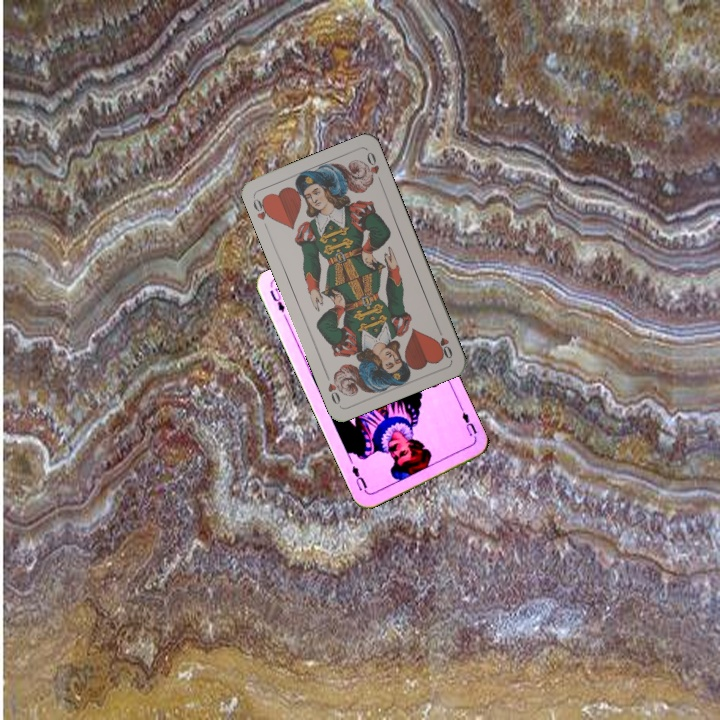EU: (266, 284, 290, 322), (457, 404, 480, 439)
HO: (433, 323, 455, 361), (249, 193, 275, 223)
